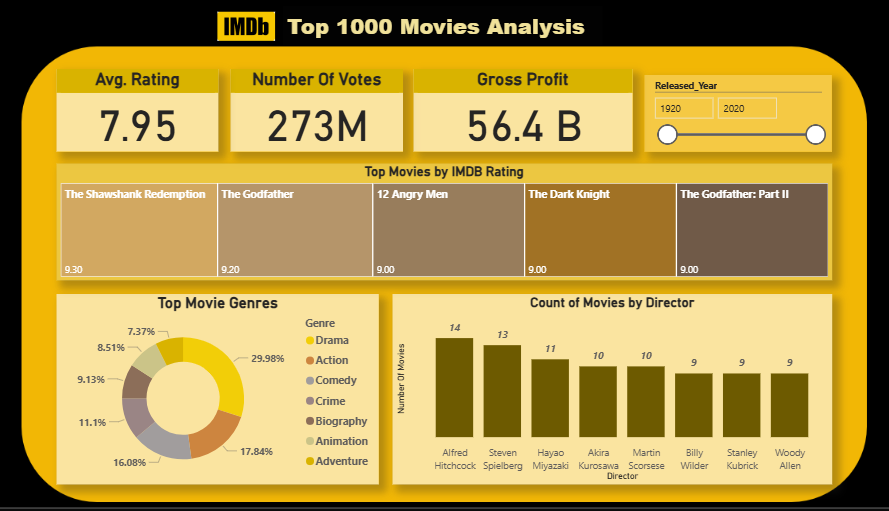

What the dashboard file says about the page in this screenshot:
{"tool":"powerbi","page":{"name":"Page 1","canvas":[1280,720],"ordinal":0},"visuals":[{"type":"image","box":[255.1,43.5,274,47.2],"z":0},{"type":"textbox","box":[438.4,41.6,402.5,49.1],"z":1000},{"type":"card","title":"Number Of Votes","fields":{"Values":["imdb_top_1000.No_of_Votes"]},"box":[372.3,120.9,217.3,103.9],"z":2000},{"type":"card","title":"Avg. Rating","fields":{"Values":["imdb_top_1000.IMDB_Rating"]},"box":[153.1,120.9,204.1,103.9],"z":3000},{"type":"card","title":" Gross Profit","fields":{"Values":["imdb_top_1000.GrossProfitFormatted"]},"box":[602.8,120.9,275.9,103.9],"z":4000},{"type":"donutChart","title":"Top Movie Genres","fields":{"Category":["imdb_top_1000.Genre"],"Y":["imdb_top_1000.Series_Title"]},"box":[153.1,404.4,406.3,240],"z":5000},{"type":"columnChart","title":"Count of Movies by Director","fields":{"Y":["imdb_top_1000.Series_Title"],"Category":["imdb_top_1000.Director"]},"box":[576.4,404.4,553.7,240],"z":6000},{"type":"slicer","fields":{"Values":["imdb_top_1000.Released_Year"]},"box":[893.9,128.5,236.2,96.4],"z":7000},{"type":"actionButton","box":[0,0,100,40],"z":8000},{"type":"treemap","title":"Top  Movies by IMDB Rating ","fields":{"Group":["imdb_top_1000.Series_Title"],"Values":["imdb_top_1000.IMDB_Rating"]},"box":[153.1,240,977,147.4],"z":9000}]}

Visuals, with their boxes in screenshot pixels (x1, y1, x2, y2), scaled from the page's 1280x720 canvas onto the 889x511 screenshot:
image: crop(177, 31, 367, 64)
textbox: crop(304, 30, 584, 64)
"Number Of Votes" card: crop(259, 86, 409, 160)
"Avg. Rating" card: crop(106, 86, 248, 160)
" Gross Profit" card: crop(419, 86, 610, 160)
"Top Movie Genres" donutChart: crop(106, 287, 389, 457)
"Count of Movies by Director" columnChart: crop(400, 287, 785, 457)
slicer - imdb_top_1000.Released_Year: crop(621, 91, 785, 160)
actionButton: crop(0, 0, 69, 28)
"Top  Movies by IMDB Rating " treemap: crop(106, 170, 785, 275)
